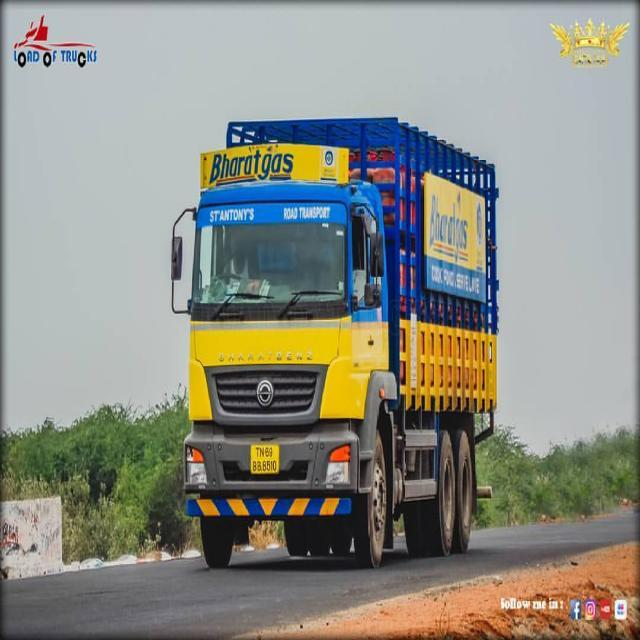Truck: (170, 110, 500, 572)
